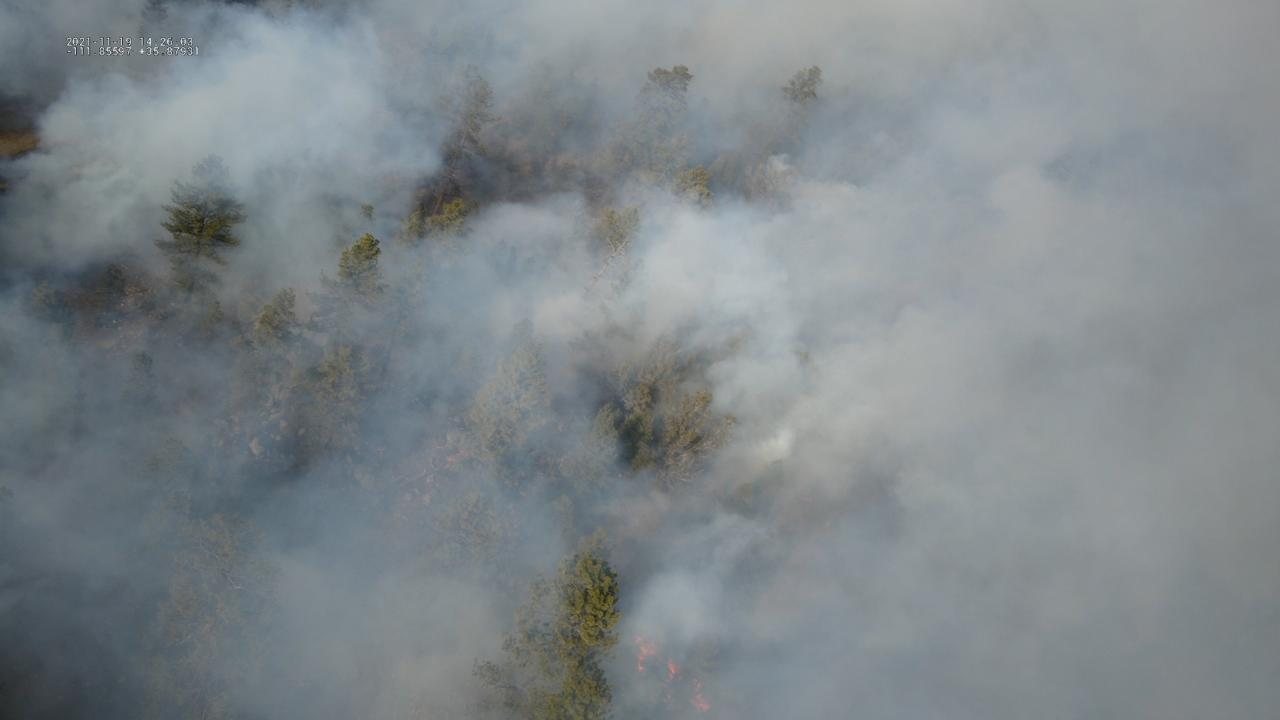fire: (634, 635, 658, 673), (689, 678, 711, 713), (667, 655, 678, 683)
smoke: (0, 0, 1280, 720)
